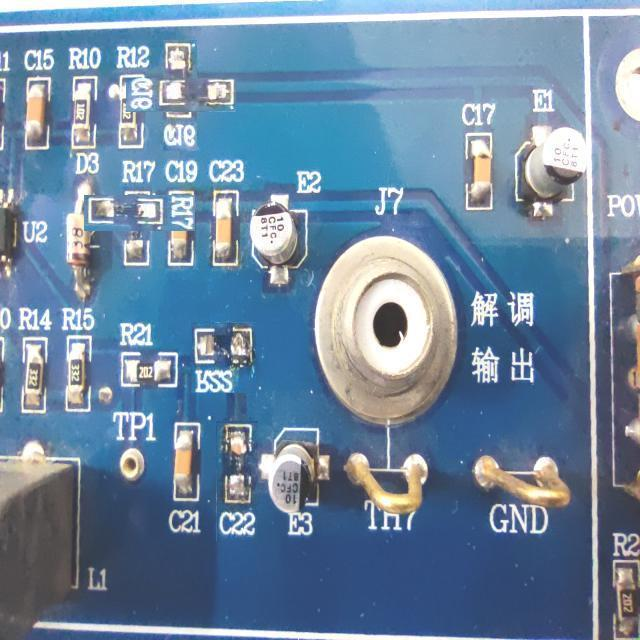miss_welding: (102, 177, 176, 250), (144, 59, 217, 132), (216, 422, 258, 542), (191, 322, 256, 393)
